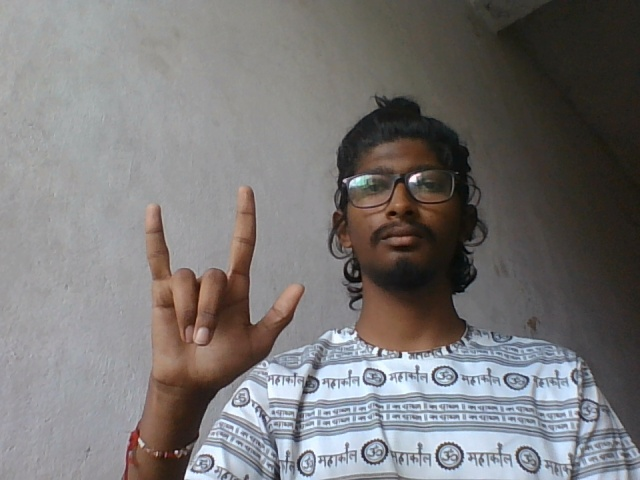House: (133, 179, 310, 406)
